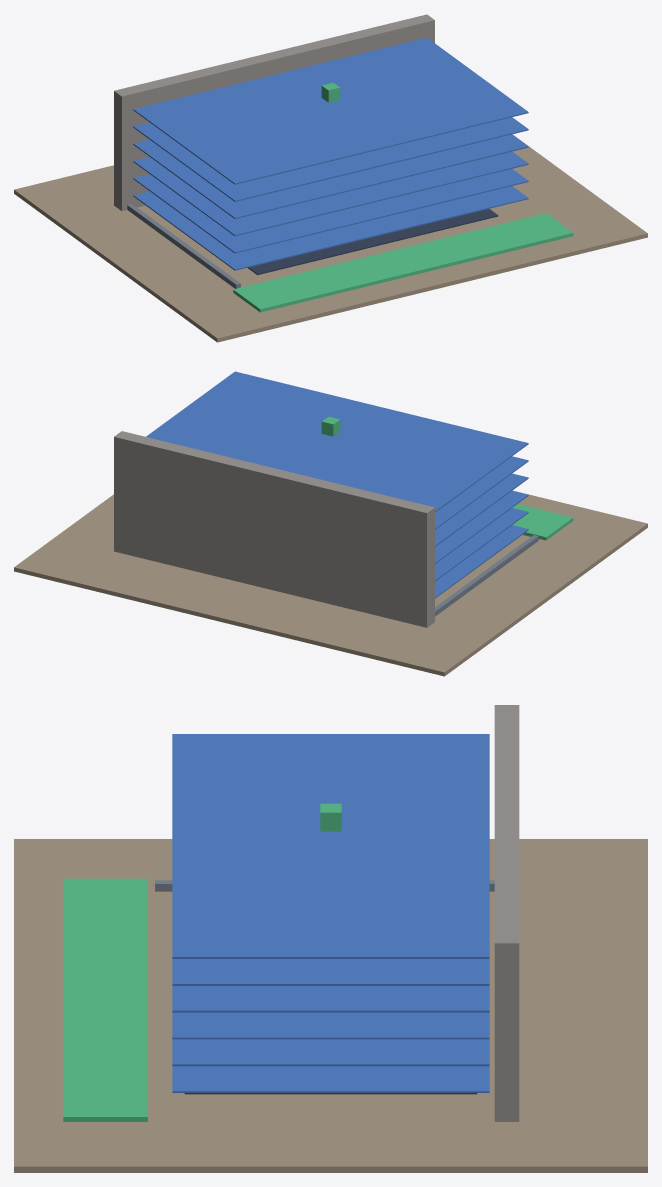
File: stage_12_complete.glb
The picture shows the model from 3 angles, top to bottom: view 1: azimuth 30°, elevation 25°; view 2: azimuth 150°, elevation 25°; view 3: azimuth 270°, elevation 25°; orthographic projection. The views are drawn at different scales.
Visible parts, largest first — view 1: world; view 2: world; view 3: world.
Part boxes in pixels (x1,y1,x2,y2): world: [14, 14, 647, 342]; world: [14, 371, 647, 676]; world: [14, 705, 647, 1172].
Size of the model in its own units: 11 by 3.15 by 9.
